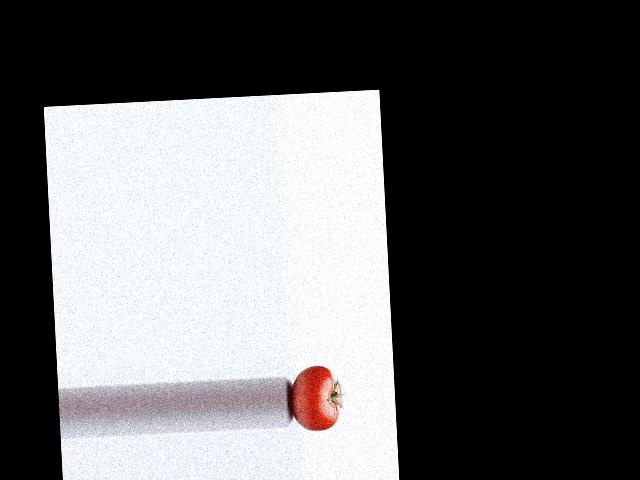tomato: (290, 364, 343, 432)
